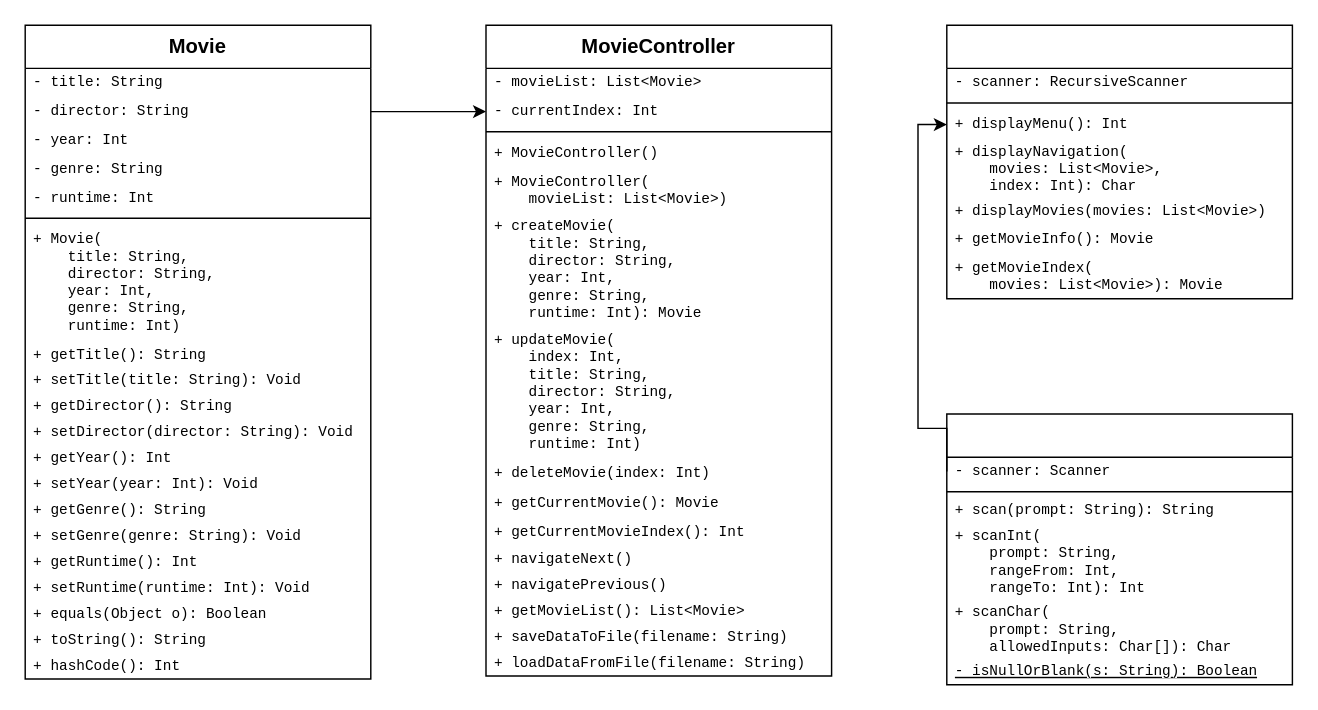
This 1318x710 diagram has some shape labels left out. Here are the shapes that lost their labels. From the top down, the box of each, then its label:
(945, 24, 1292, 299): MovieView
(945, 413, 1292, 685): RecursiveScanner
